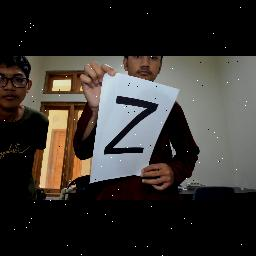z: (100, 91, 164, 159)
